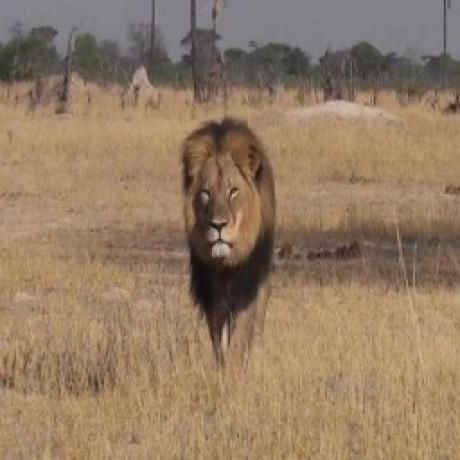Lion: (181, 115, 278, 363)
